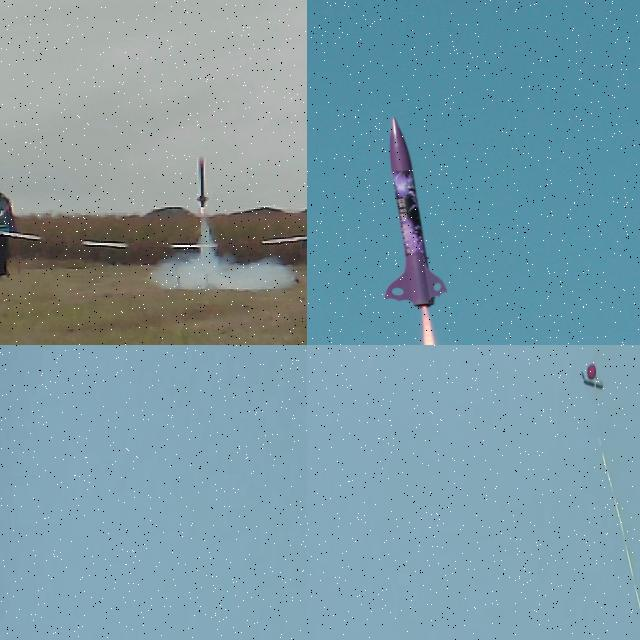Rocket: (383, 115, 448, 309), (195, 155, 211, 208)
